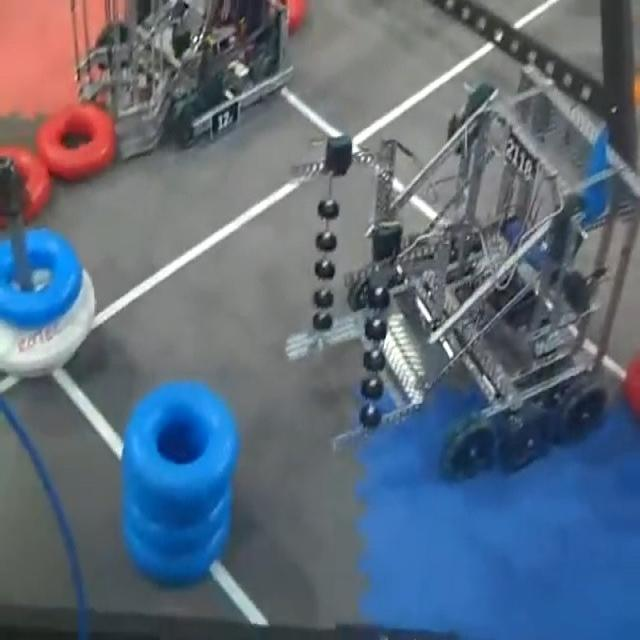Blue-Ring: (125, 382, 239, 507), (0, 230, 82, 328), (124, 492, 230, 552), (128, 523, 228, 583), (123, 468, 232, 522)
Red-Ring: (36, 105, 115, 180), (0, 147, 51, 222)
